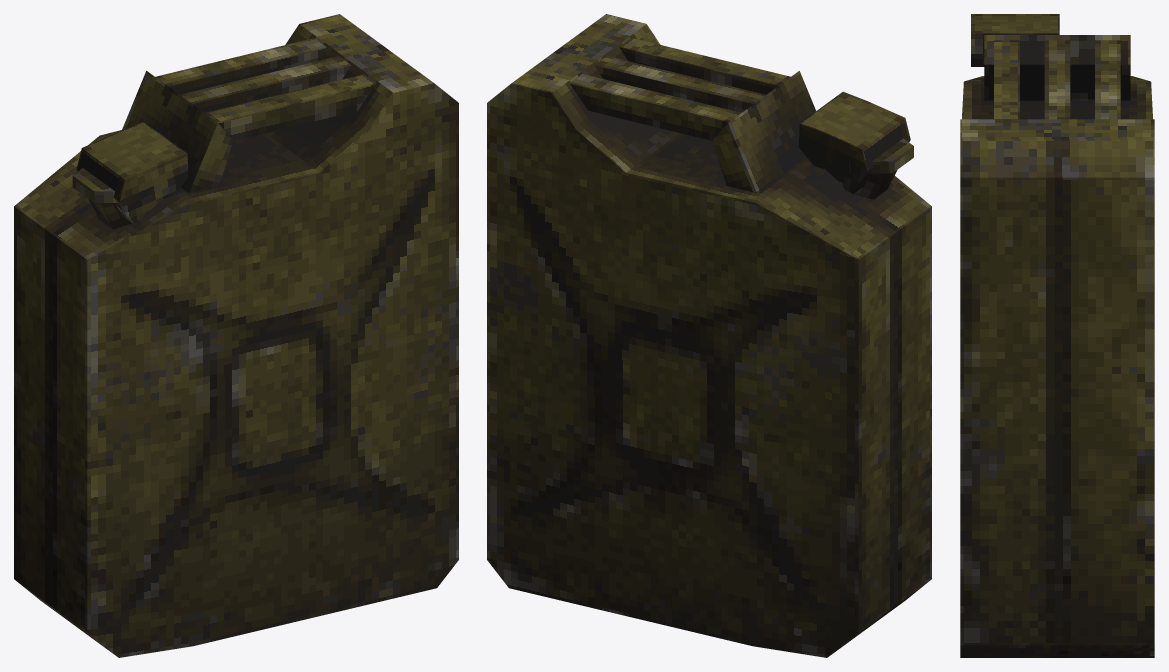
Rendered from JerryCan.glb.
3 views of the same model, side by side, from view 1: azimuth 30°, elevation 25°; view 2: azimuth 150°, elevation 25°; view 3: azimuth 270°, elevation 25° (orthographic). The views are drawn at different scales.
Visible parts, largest first — view 1: JerryCan; view 2: JerryCan; view 3: JerryCan.
Part boxes in pixels (x1,y1,x2,y2): JerryCan: (14, 14, 458, 657); JerryCan: (487, 14, 931, 657); JerryCan: (960, 14, 1154, 657).
Bounding box in the file's own units: 0.3412 × 0.4584 × 0.1552.
Materials: 1 (1 with a texture image).
